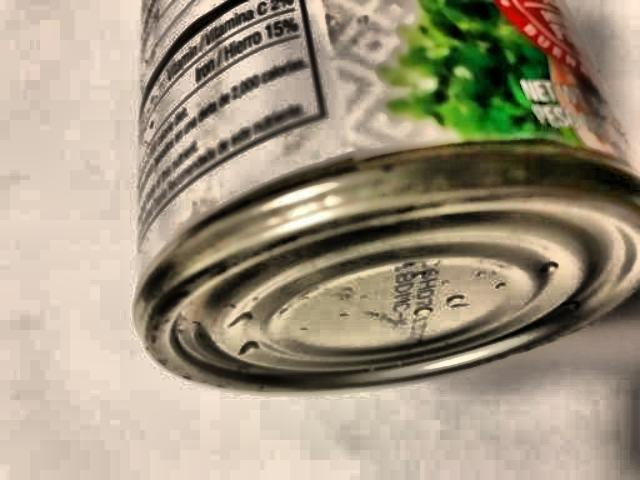Almennt: (118, 0, 640, 415)
